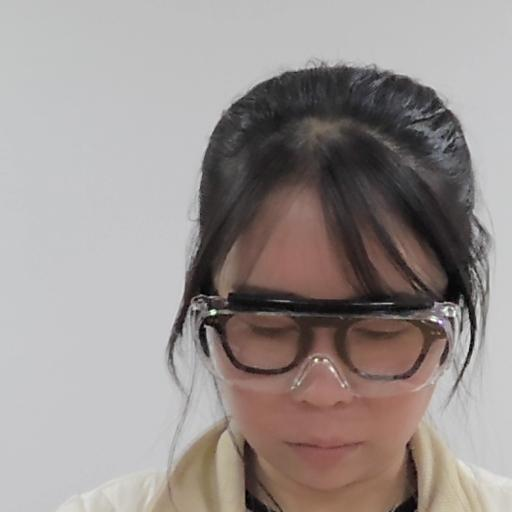glasses: (172, 78, 498, 478)
